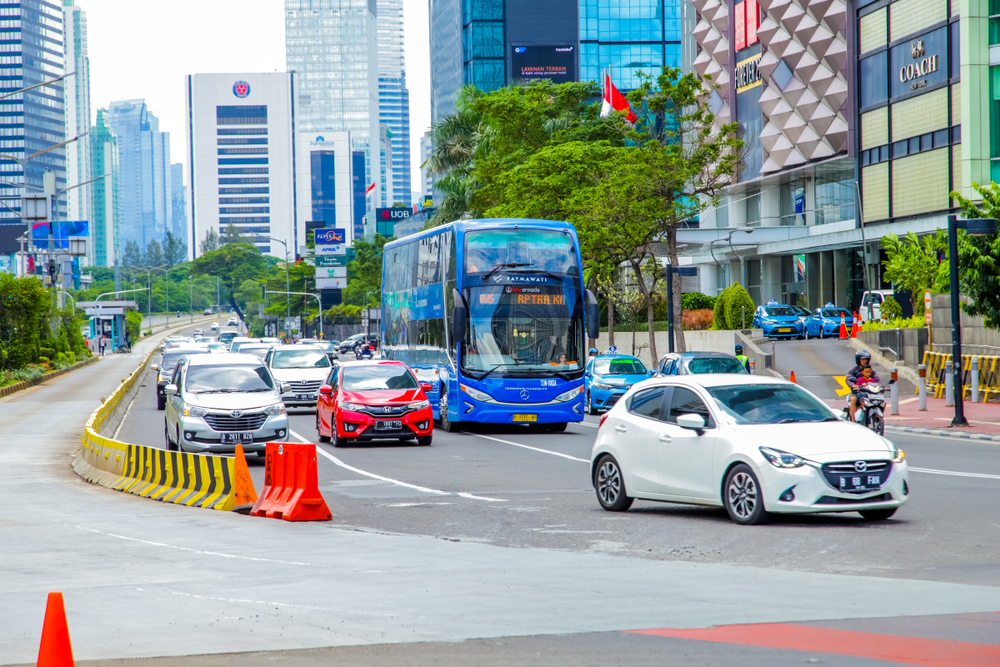car: (586, 367, 918, 530), (161, 350, 296, 469), (311, 356, 440, 452), (263, 343, 341, 414), (752, 299, 808, 344)
motorcycle: (840, 378, 895, 454)
